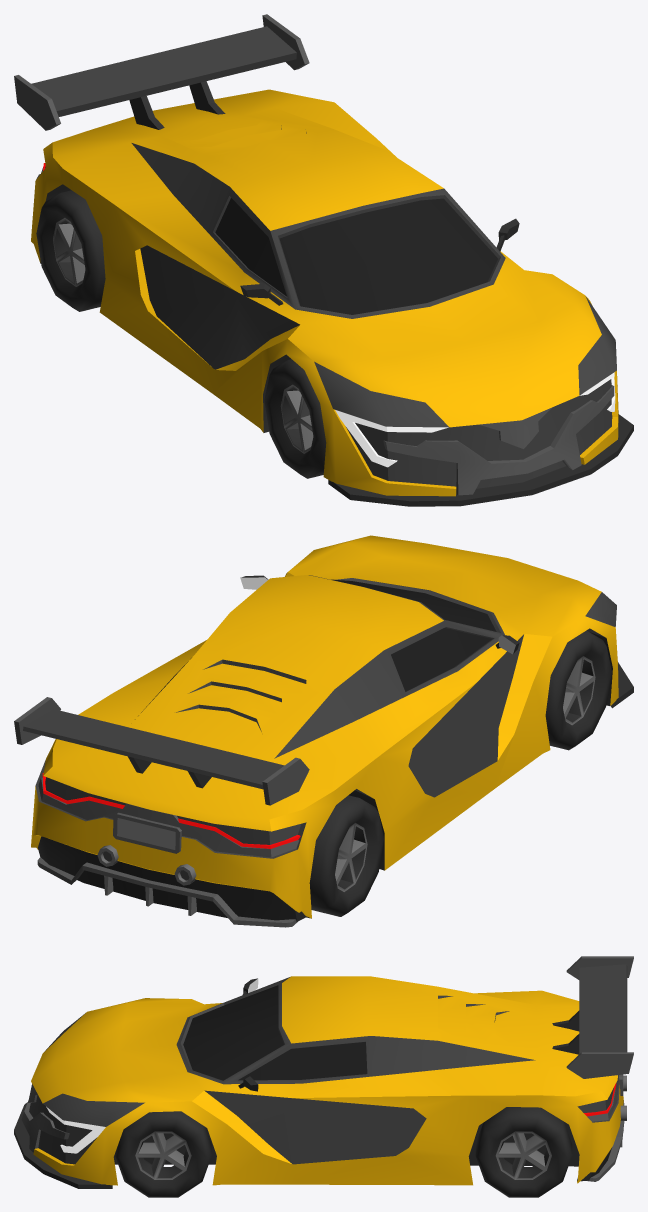
The model's file is sportrs.glb.
3 views of the same model, one above another, from view 1: azimuth 30°, elevation 25°; view 2: azimuth 150°, elevation 25°; view 3: azimuth 270°, elevation 25° (orthographic). The views are drawn at different scales.
Visible parts, largest first — view 1: sportrs, wheels.046, wheels.015; view 2: sportrs, wheels.046, wheels.015; view 3: sportrs, wheels.045, wheels.017.
Part boxes in pixels (x1=…): sportrs: x1=14, y1=14, x2=633, y2=506; wheels.046: x1=36, y1=190, x2=105, y2=311; wheels.015: x1=264, y1=359, x2=326, y2=478; sportrs: x1=14, y1=535, x2=633, y2=927; wheels.046: x1=309, y1=795, x2=383, y2=916; wheels.015: x1=545, y1=631, x2=611, y2=750; sportrs: x1=14, y1=956, x2=633, y2=1188; wheels.045: x1=475, y1=1107, x2=572, y2=1197; wheels.017: x1=115, y1=1111, x2=211, y2=1197.
Size of the model in its own units: 2.51 by 1.48 by 5.84.
4 materials, 4 textured.
